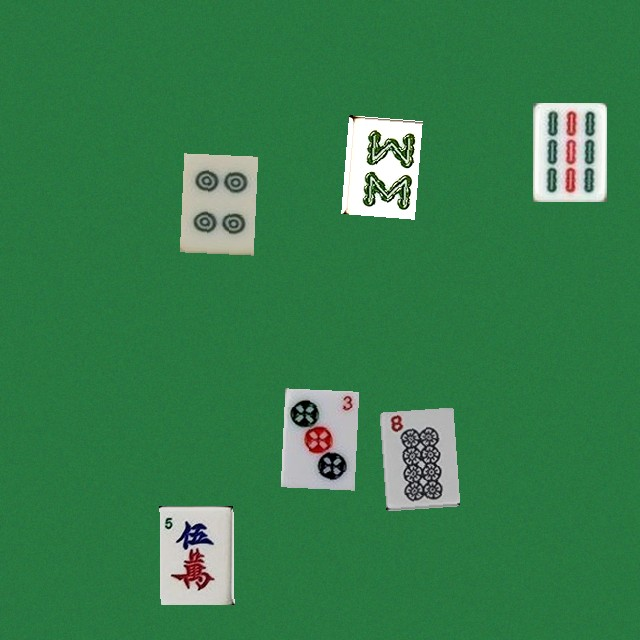tile: (532, 102, 606, 201), (179, 153, 253, 252), (159, 505, 233, 604), (280, 388, 354, 487), (379, 407, 453, 506), (341, 115, 415, 214)
